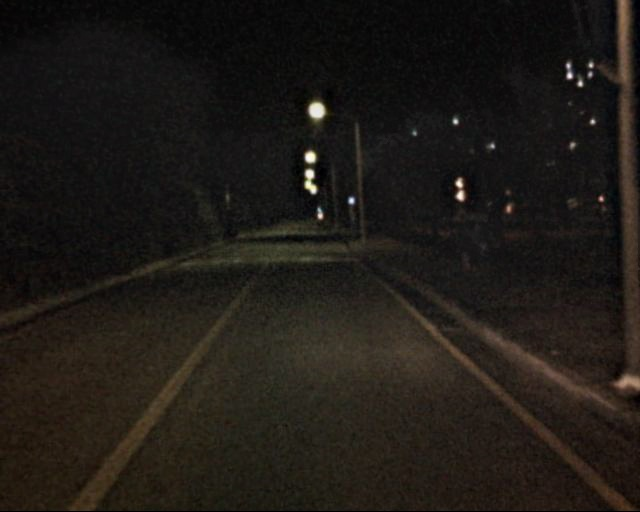person: (468, 207, 495, 274), (450, 210, 475, 271)
